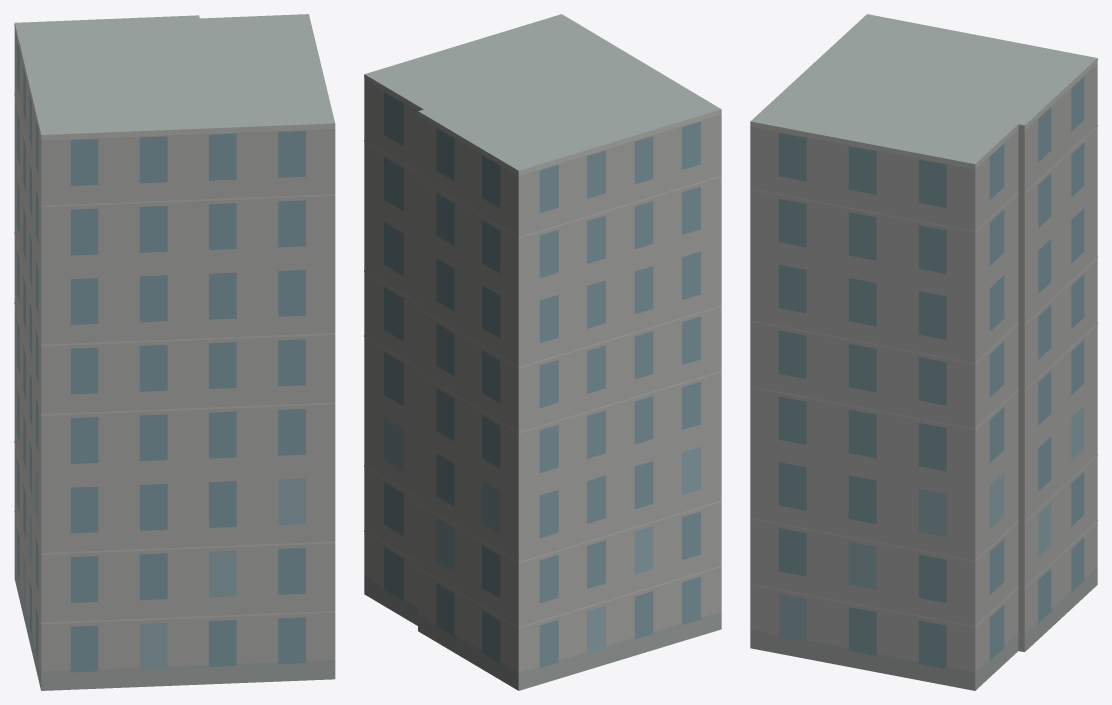
Rendered from survey-upis-32528996.glb.
The picture shows the model from 3 angles, left to right: view 1: azimuth 30°, elevation 25°; view 2: azimuth 150°, elevation 25°; view 3: azimuth 270°, elevation 25°; orthographic projection. The views are drawn at different scales.
Parts seen in each view (by area): view 1: survey-upis-32528996.tmp; view 2: survey-upis-32528996.tmp; view 3: survey-upis-32528996.tmp.
Boxes of the visible parts, <box> form: survey-upis-32528996.tmp: <box>14,14,335,690</box>; survey-upis-32528996.tmp: <box>364,14,721,690</box>; survey-upis-32528996.tmp: <box>750,14,1097,690</box>.
Size of the model in its own units: 15.25 by 24.9 by 14.9.
